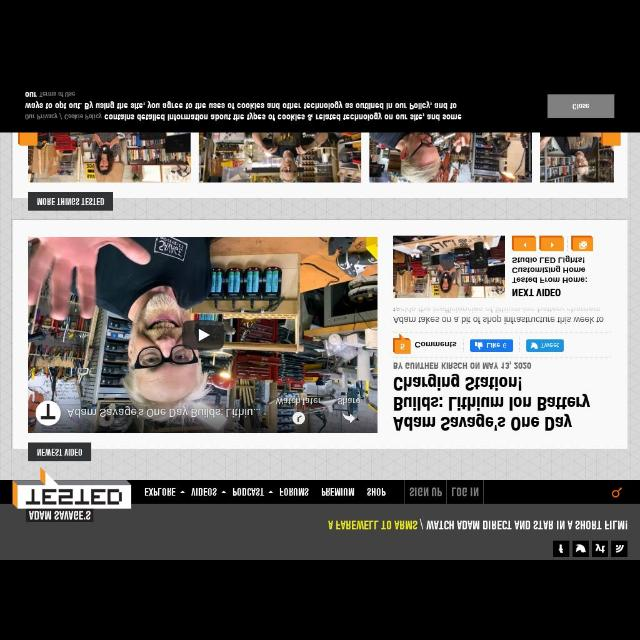button: (182, 322, 225, 348), (512, 235, 536, 251), (540, 236, 564, 250), (572, 541, 590, 557), (572, 236, 592, 250), (592, 540, 608, 556), (554, 541, 568, 557), (612, 542, 626, 556)
icon: (292, 412, 306, 424), (198, 328, 210, 342), (342, 412, 356, 422), (575, 544, 587, 554), (612, 487, 622, 498), (474, 340, 484, 350), (616, 543, 624, 553), (530, 342, 538, 350), (579, 241, 587, 249), (558, 544, 564, 554), (522, 242, 528, 248), (180, 490, 186, 494), (550, 242, 554, 248), (222, 490, 226, 494), (269, 490, 273, 494)
iframe: (1, 82, 640, 132)
image: (29, 237, 378, 433), (28, 132, 190, 182), (200, 132, 362, 182), (370, 132, 532, 182), (392, 236, 506, 298), (13, 468, 131, 520), (540, 134, 614, 182), (36, 400, 60, 426), (36, 197, 104, 206), (392, 334, 412, 354)
spinner: (144, 488, 186, 497), (232, 488, 274, 496), (190, 488, 226, 497)
text: (24, 92, 462, 120), (394, 372, 590, 432), (392, 306, 604, 324), (328, 520, 628, 530), (67, 406, 261, 418), (512, 256, 588, 284), (394, 360, 532, 370), (512, 289, 562, 297), (37, 448, 83, 456), (276, 397, 322, 405), (415, 340, 457, 348), (320, 488, 356, 497), (450, 487, 480, 497), (144, 488, 176, 497), (410, 488, 442, 497), (280, 488, 310, 497), (232, 488, 264, 496), (190, 488, 218, 497), (338, 397, 360, 405), (366, 488, 386, 496), (572, 102, 590, 110), (487, 342, 508, 348), (540, 342, 560, 348), (594, 544, 606, 552)
textbutton: (548, 94, 614, 118), (527, 338, 565, 352), (470, 339, 512, 351)
toolbar: (1, 480, 640, 504)
